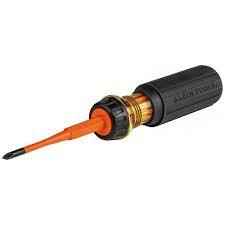screwdriver: (0, 64, 224, 159)
